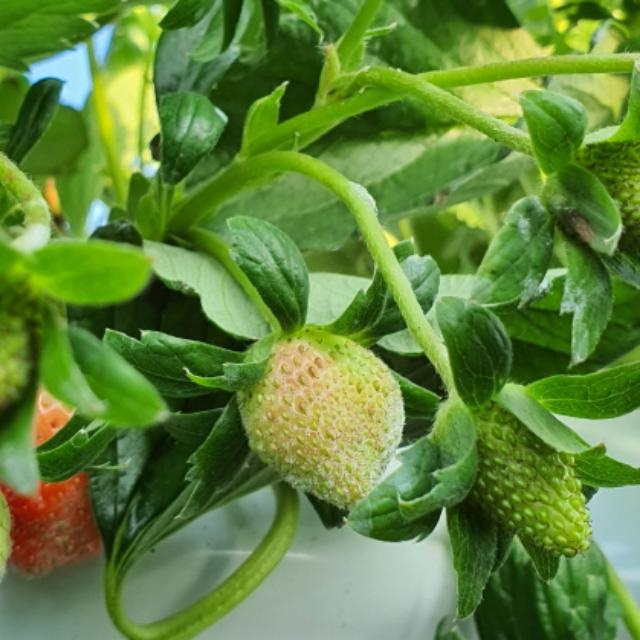Powdery Mildew Fruit: (235, 331, 406, 513)
